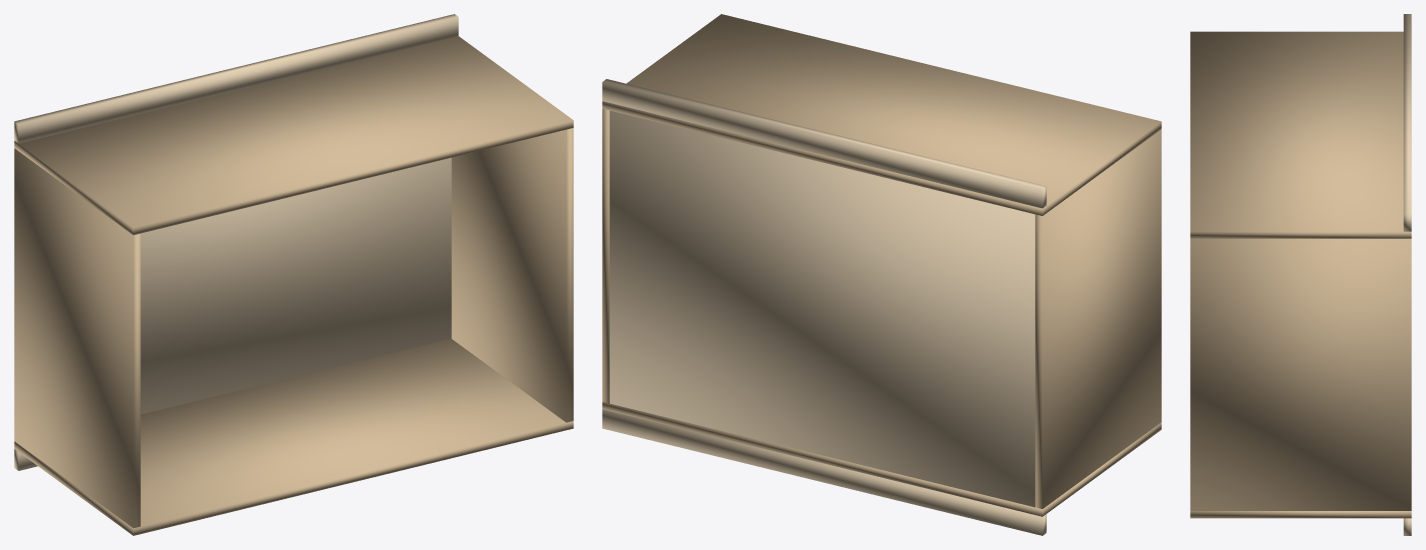
File: paper_box.glb
3 views of the same model, side by side, from view 1: azimuth 30°, elevation 25°; view 2: azimuth 150°, elevation 25°; view 3: azimuth 270°, elevation 25° (orthographic). The views are drawn at different scales.
Visible parts, largest first — view 1: box_floor, box_wall_back, box_wall_front, box_wall_left, box_wall_right, back_fold; view 2: box_floor, box_wall_back, box_wall_left, back_fold, front_fold, box_wall_front, box_wall_right; view 3: box_wall_right, box_wall_back, back_fold, box_wall_front.
Part boxes in pixels (bbox=[...]): box_floor: bbox=[140, 157, 451, 414]; box_wall_back: bbox=[14, 36, 573, 235]; box_wall_front: bbox=[14, 338, 573, 535]; box_wall_left: bbox=[14, 148, 140, 528]; box_wall_right: bbox=[451, 128, 573, 422]; back_fold: bbox=[14, 14, 458, 143]; box_floor: bbox=[609, 110, 1035, 507]; box_wall_back: bbox=[602, 14, 1161, 215]; box_wall_left: bbox=[1035, 129, 1161, 508]; back_fold: bbox=[602, 79, 1046, 208]; front_fold: bbox=[602, 409, 1046, 535]; box_wall_front: bbox=[602, 402, 1161, 516]; box_wall_right: bbox=[602, 109, 609, 403]; box_wall_right: bbox=[1190, 238, 1411, 510]; box_wall_back: bbox=[1190, 31, 1411, 238]; back_fold: bbox=[1403, 14, 1411, 231]; box_wall_front: bbox=[1190, 511, 1411, 518].
Bounding box in the file's own units: 0.1928 × 0.145 × 0.0903.
